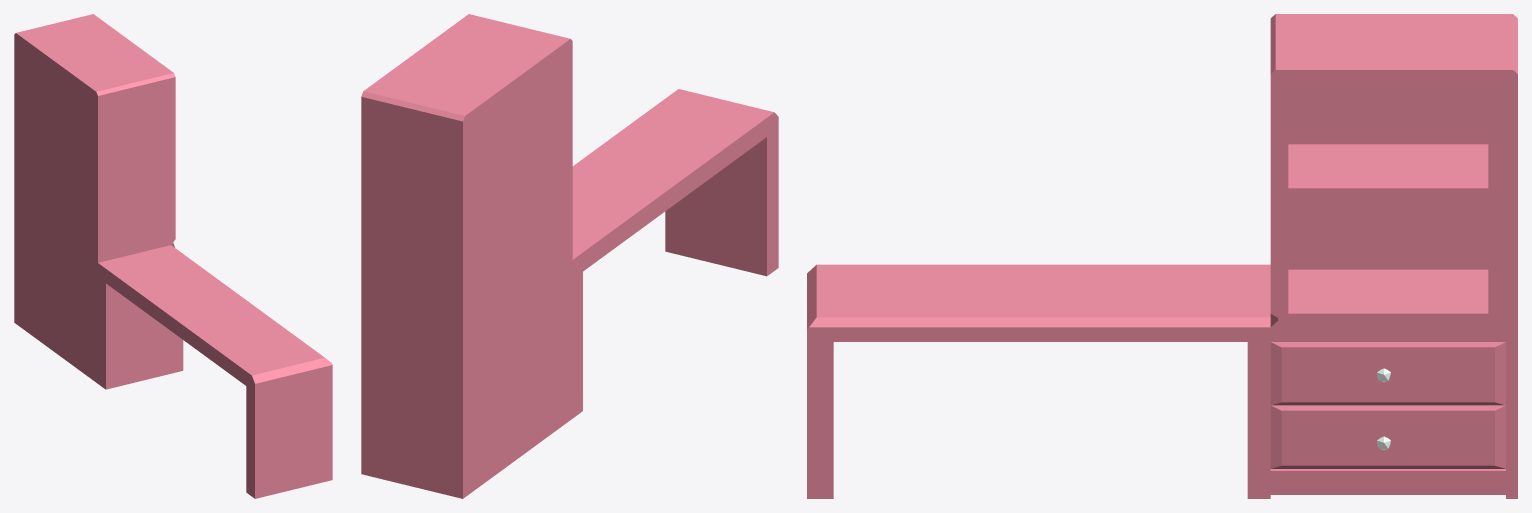
The model's file is Desk.fbx.
The picture shows the model from 3 angles, left to right: view 1: azimuth 30°, elevation 25°; view 2: azimuth 150°, elevation 25°; view 3: azimuth 270°, elevation 25°; orthographic projection. The views are drawn at different scales.
Visible parts, largest first — view 1: Cube; view 2: Cube; view 3: Cube.
Part boxes in pixels (x1,y1,x2,y2): Cube: [14, 14, 332, 498]; Cube: [361, 14, 778, 498]; Cube: [807, 14, 1517, 498].
Bounding box in the file's own units: 144 × 481 × 722.
